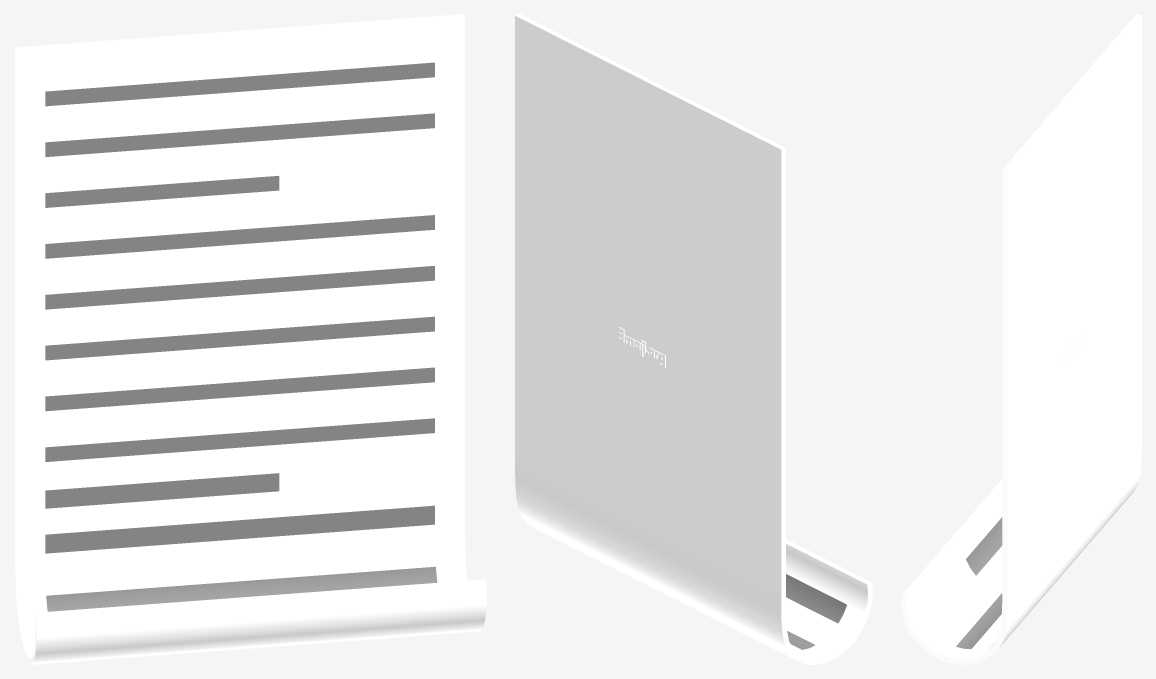
File: page_with_curl.gltf
The picture shows the model from 3 angles, left to right: view 1: azimuth 30°, elevation 25°; view 2: azimuth 150°, elevation 25°; view 3: azimuth 270°, elevation 25°; orthographic projection. The views are drawn at different scales.
Visible parts, largest first — view 1: page with curl; view 2: page with curl; view 3: page with curl.
Part boxes in pixels (x1,y1,x2,y2): page with curl: (14,14,486,664); page with curl: (515,14,872,664); page with curl: (901,14,1141,664).
Size of the model in its own units: 1.56 by 2.12 by 0.9228.
Materials: 1 (1 with a texture image).
